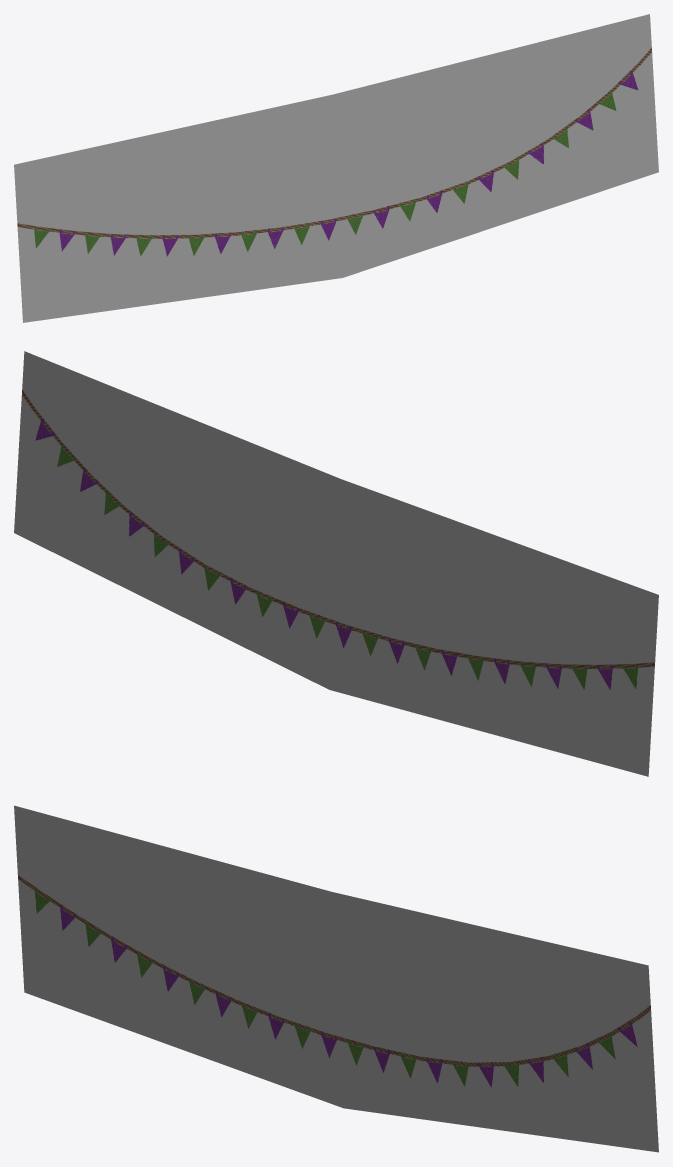
3 views of the same model, one above another, from view 1: azimuth 30°, elevation 25°; view 2: azimuth 150°, elevation 25°; view 3: azimuth 330°, elevation 25° (orthographic). The views are drawn at different scales.
Visible parts, largest first — view 1: SM_garland003; view 2: SM_garland003; view 3: SM_garland003.
Part boxes in pixels (x1,y1,x2,y2): SM_garland003: [14, 14, 658, 322]; SM_garland003: [14, 351, 658, 776]; SM_garland003: [14, 805, 658, 1152].
Bounding box in the file's own units: 798 × 265 × 96.25.
